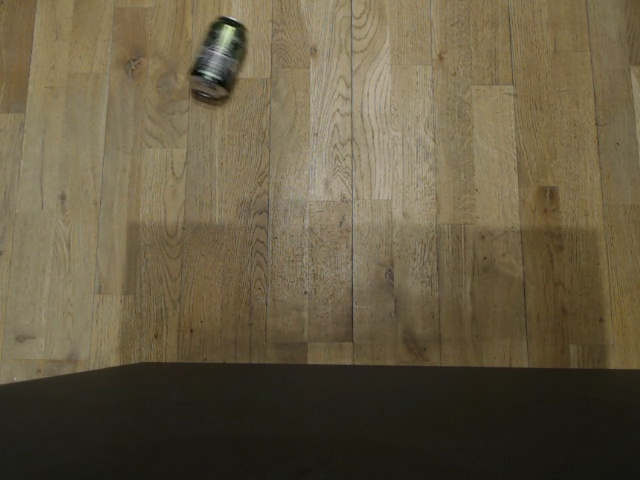beer: (188, 15, 250, 106)
